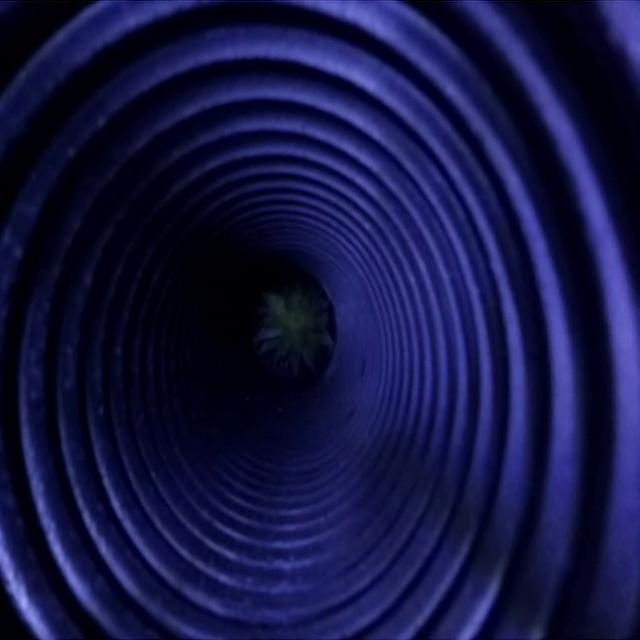leaf: (262, 288, 333, 374)
